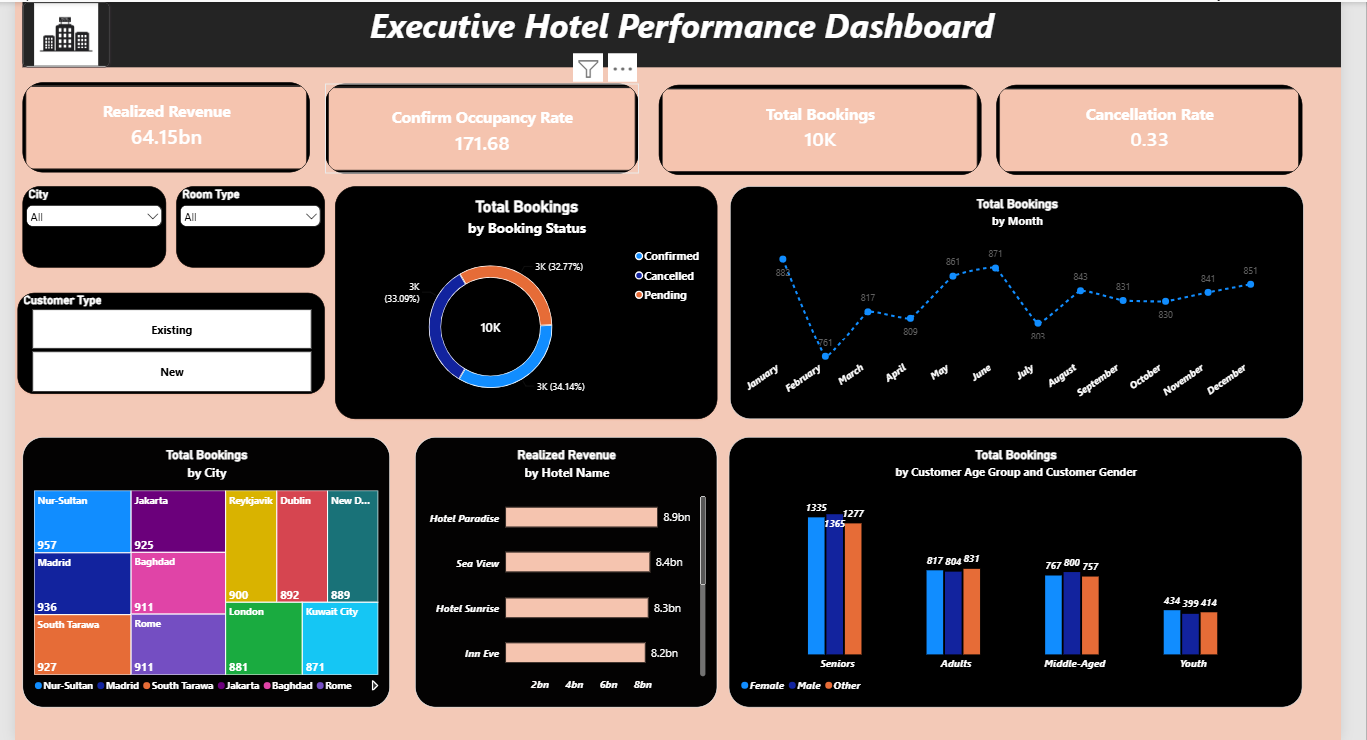

The dashboard page shown, as its layout file describes it:
{"tool":"powerbi","page":{"name":"Page 1","canvas":[1920,1080],"ordinal":0},"visuals":[{"type":"textbox","box":[10.9,0,1909.2,95.9],"z":0},{"type":"textbox","box":[10.9,0,1909.2,95.9],"z":1000},{"type":"image","box":[10.9,0,126.7,95.9],"z":2000},{"type":"cardVisual","fields":{"Data":["Hotel_management Data.Realized Revenue"]},"box":[10.9,117.6,416.2,132.1],"z":3000},{"type":"cardVisual","fields":{"Data":["Hotel_management Data.Confirm Occupancy Rate"]},"box":[448.8,119.4,454.2,132.1],"z":4000},{"type":"cardVisual","fields":{"Data":["Hotel_management Data.Total Bookings"]},"box":[932,121.2,466.9,132.1],"z":5000},{"type":"cardVisual","fields":{"Data":["Hotel_management Data.Cancellation Rate"]},"box":[1420.6,121.2,443.4,132.1],"z":6000},{"type":"donutChart","fields":{"Category":["Hotel_management Data.Booking Status"],"Y":["Hotel_management Data.Total Bookings"]},"box":[463.3,269.6,553.8,340.2],"z":7000},{"type":"lineChart","fields":{"Category":["Hotel_management Data.Booking Date.Variation.Date Hierarchy.Month"],"Y":["Hotel_management Data.Total Bookings"]},"box":[1035.1,269.6,830.6,340.2],"z":8000},{"type":"clusteredColumnChart","fields":{"Category":["Hotel_management Data.Customer Age Group"],"Series":["Hotel_management Data.Customer Gender"],"Y":["Hotel_management Data.Total Bookings"]},"box":[1033.3,637,830.6,394.5],"z":8001},{"type":"clusteredBarChart","fields":{"Category":["Hotel_management Data.Hotel Name"],"Y":["Hotel_management Data.Realized Revenue"]},"box":[579.1,637,437.9,394.5],"z":8002},{"type":"treemap","fields":{"Group":["Hotel_management Data.Country","Hotel_management Data.City"],"Values":["Hotel_management Data.Total Bookings"]},"box":[10.9,637,532,394.5],"z":8003},{"type":"slicer","fields":{"Values":["Hotel_management Data.City"]},"box":[10.9,269.6,208.1,119.4],"z":8004},{"type":"slicer","fields":{"Values":["Hotel_management Data.Room Type"]},"box":[233.4,269.6,215.3,119.4],"z":8005},{"type":"slicer","fields":{"Values":["Hotel_management Data.Customer Type"]},"box":[3.6,425.3,445.2,148.4],"z":8006}]}

Visuals, with their boxes in screenshot pixels (x1, y1, x2, y2):
textbox: region(25, 0, 1316, 65)
textbox: region(25, 0, 1316, 65)
image: region(25, 0, 111, 65)
cardVisual - Hotel_management Data.Realized Revenue: region(25, 80, 307, 169)
cardVisual - Hotel_management Data.Confirm Occupancy Rate: region(321, 81, 628, 170)
cardVisual - Hotel_management Data.Total Bookings: region(648, 82, 964, 171)
cardVisual - Hotel_management Data.Cancellation Rate: region(978, 82, 1278, 171)
donutChart - Hotel_management Data.Booking Status x Hotel_management Data.Total Bookings: region(331, 182, 705, 412)
lineChart - Hotel_management Data.Booking Date.Variation.Date Hierarchy.Month x Hotel_management Data.Total Bookings: region(718, 182, 1279, 412)
clusteredColumnChart - Hotel_management Data.Customer Age Group x Hotel_management Data.Customer Gender: region(716, 431, 1278, 697)
clusteredBarChart - Hotel_management Data.Hotel Name x Hotel_management Data.Realized Revenue: region(409, 431, 705, 697)
treemap - Hotel_management Data.Country x Hotel_management Data.City: region(25, 431, 385, 697)
slicer - Hotel_management Data.City: region(25, 182, 166, 263)
slicer - Hotel_management Data.Room Type: region(176, 182, 321, 263)
slicer - Hotel_management Data.Customer Type: region(20, 288, 321, 388)
